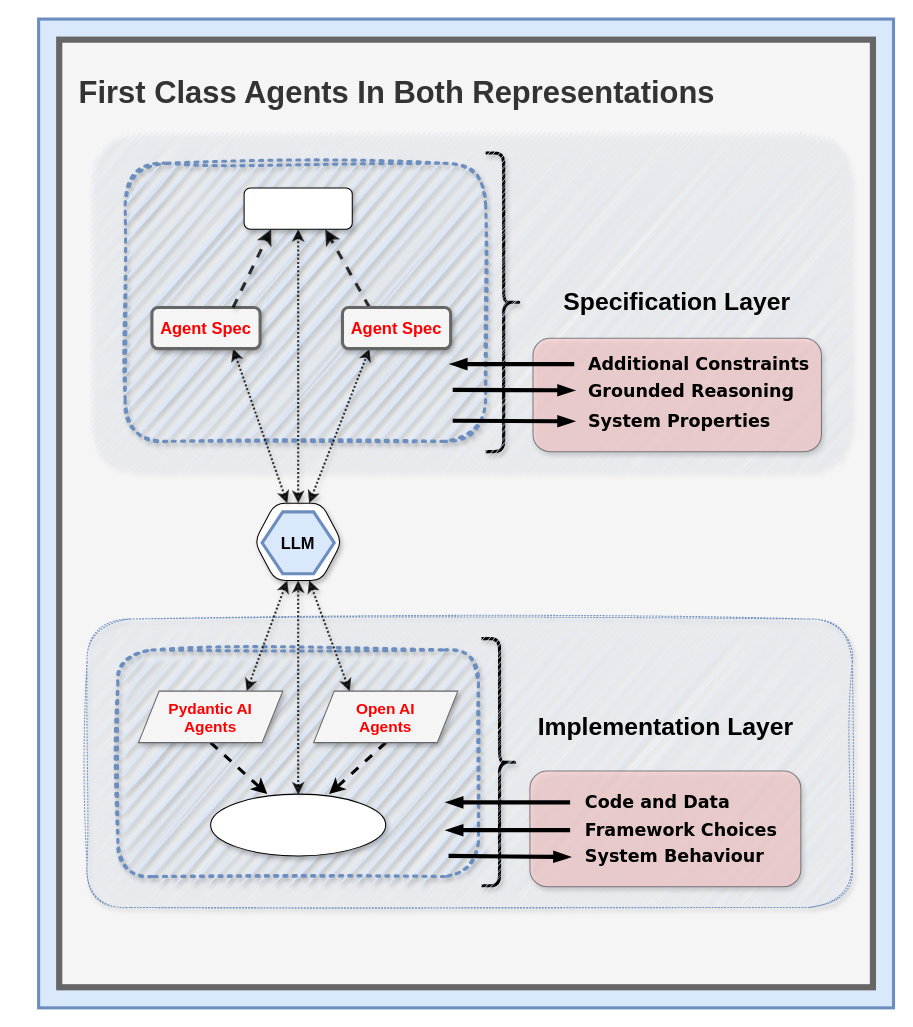
This 913x1027 diagram has some shape labels left out. The centre of each missing label's shape, as x and y in pixels:
Application: the point at 298,826
ISPL Spec: the point at 298,209
